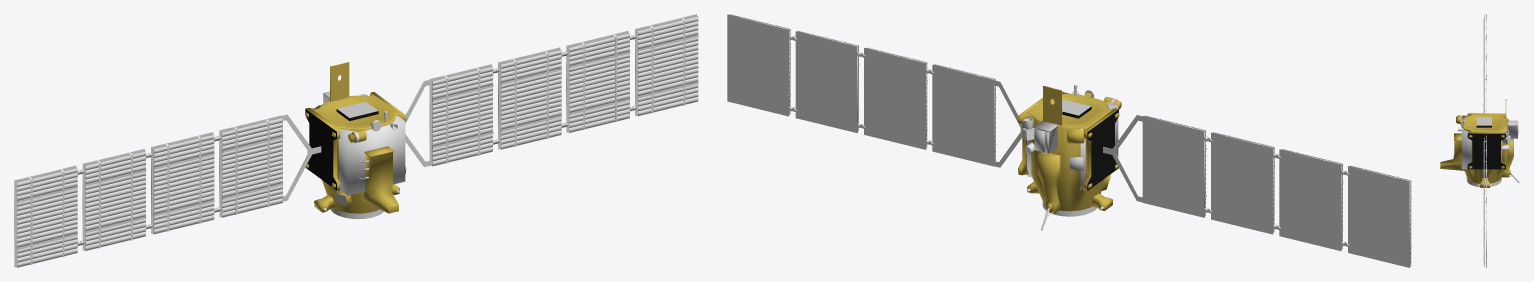
File: deep_space.glb
The picture shows the model from 3 angles, left to right: view 1: azimuth 30°, elevation 25°; view 2: azimuth 150°, elevation 25°; view 3: azimuth 270°, elevation 25°; orthographic projection. The views are drawn at different scales.
Visible parts, largest first — view 1: shiny_panel, tex_01, foil_gold, _root, black_krinkle, foil_silver; view 2: tex_01, foil_gold, black_krinkle, foil_silver, shiny_panel, _root; view 3: foil_gold, black_krinkle, tex_01, _root, foil_silver, shiny_panel.
Boxes of the visible parts, box(x1,y1,x2,y2) form: shiny_panel: box(17, 17, 698, 267); tex_01: box(14, 14, 698, 267); foil_gold: box(305, 62, 406, 213); _root: box(339, 115, 405, 195); black_krinkle: box(305, 109, 378, 190); foil_silver: box(323, 91, 377, 178); tex_01: box(727, 14, 1411, 267); foil_gold: box(1018, 86, 1121, 213); black_krinkle: box(1062, 106, 1118, 190); foil_silver: box(1033, 99, 1090, 170); shiny_panel: box(730, 14, 1410, 265); _root: box(1027, 92, 1118, 189); foil_gold: box(1440, 99, 1513, 187); black_krinkle: box(1467, 125, 1505, 169); tex_01: box(1456, 14, 1519, 267); _root: box(1461, 115, 1501, 169); foil_silver: box(1476, 117, 1518, 138); shiny_panel: box(1484, 15, 1484, 266).
Bounding box in the file's own units: 11.8 × 2.22 × 1.96.
